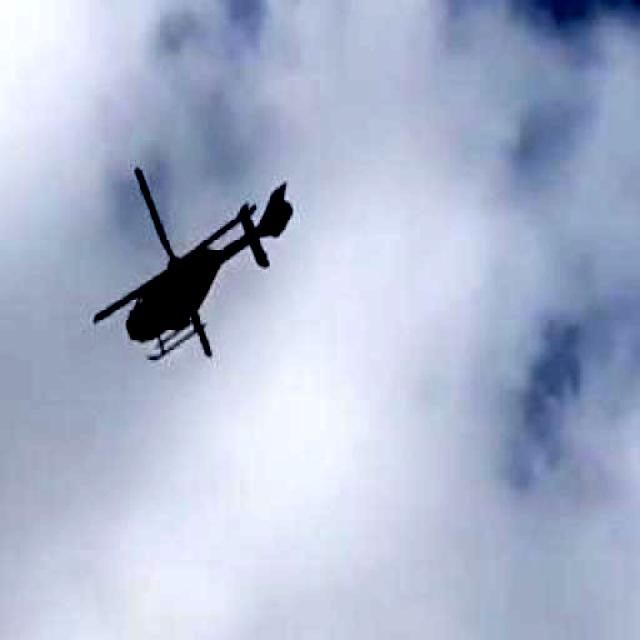drone: (55, 120, 341, 386)
